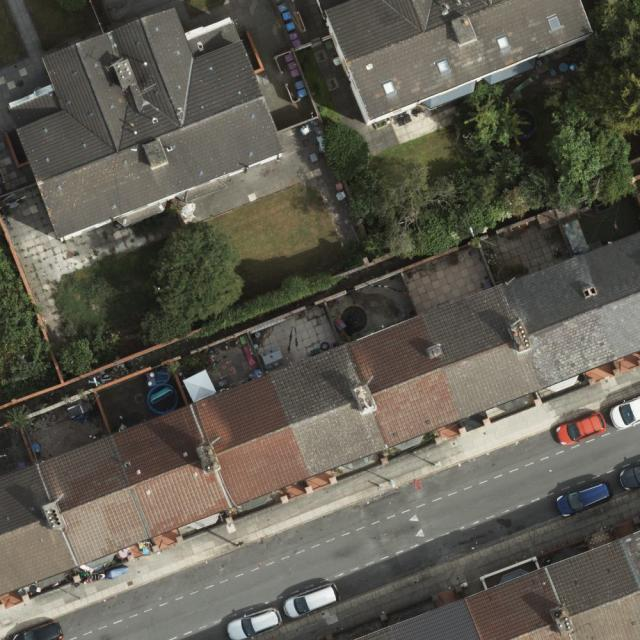roof: (0, 228, 640, 596), (15, 8, 286, 240), (323, 0, 598, 121), (347, 531, 640, 640)
skylight: (381, 78, 401, 100), (546, 12, 564, 33), (434, 57, 453, 76), (496, 33, 512, 54)
